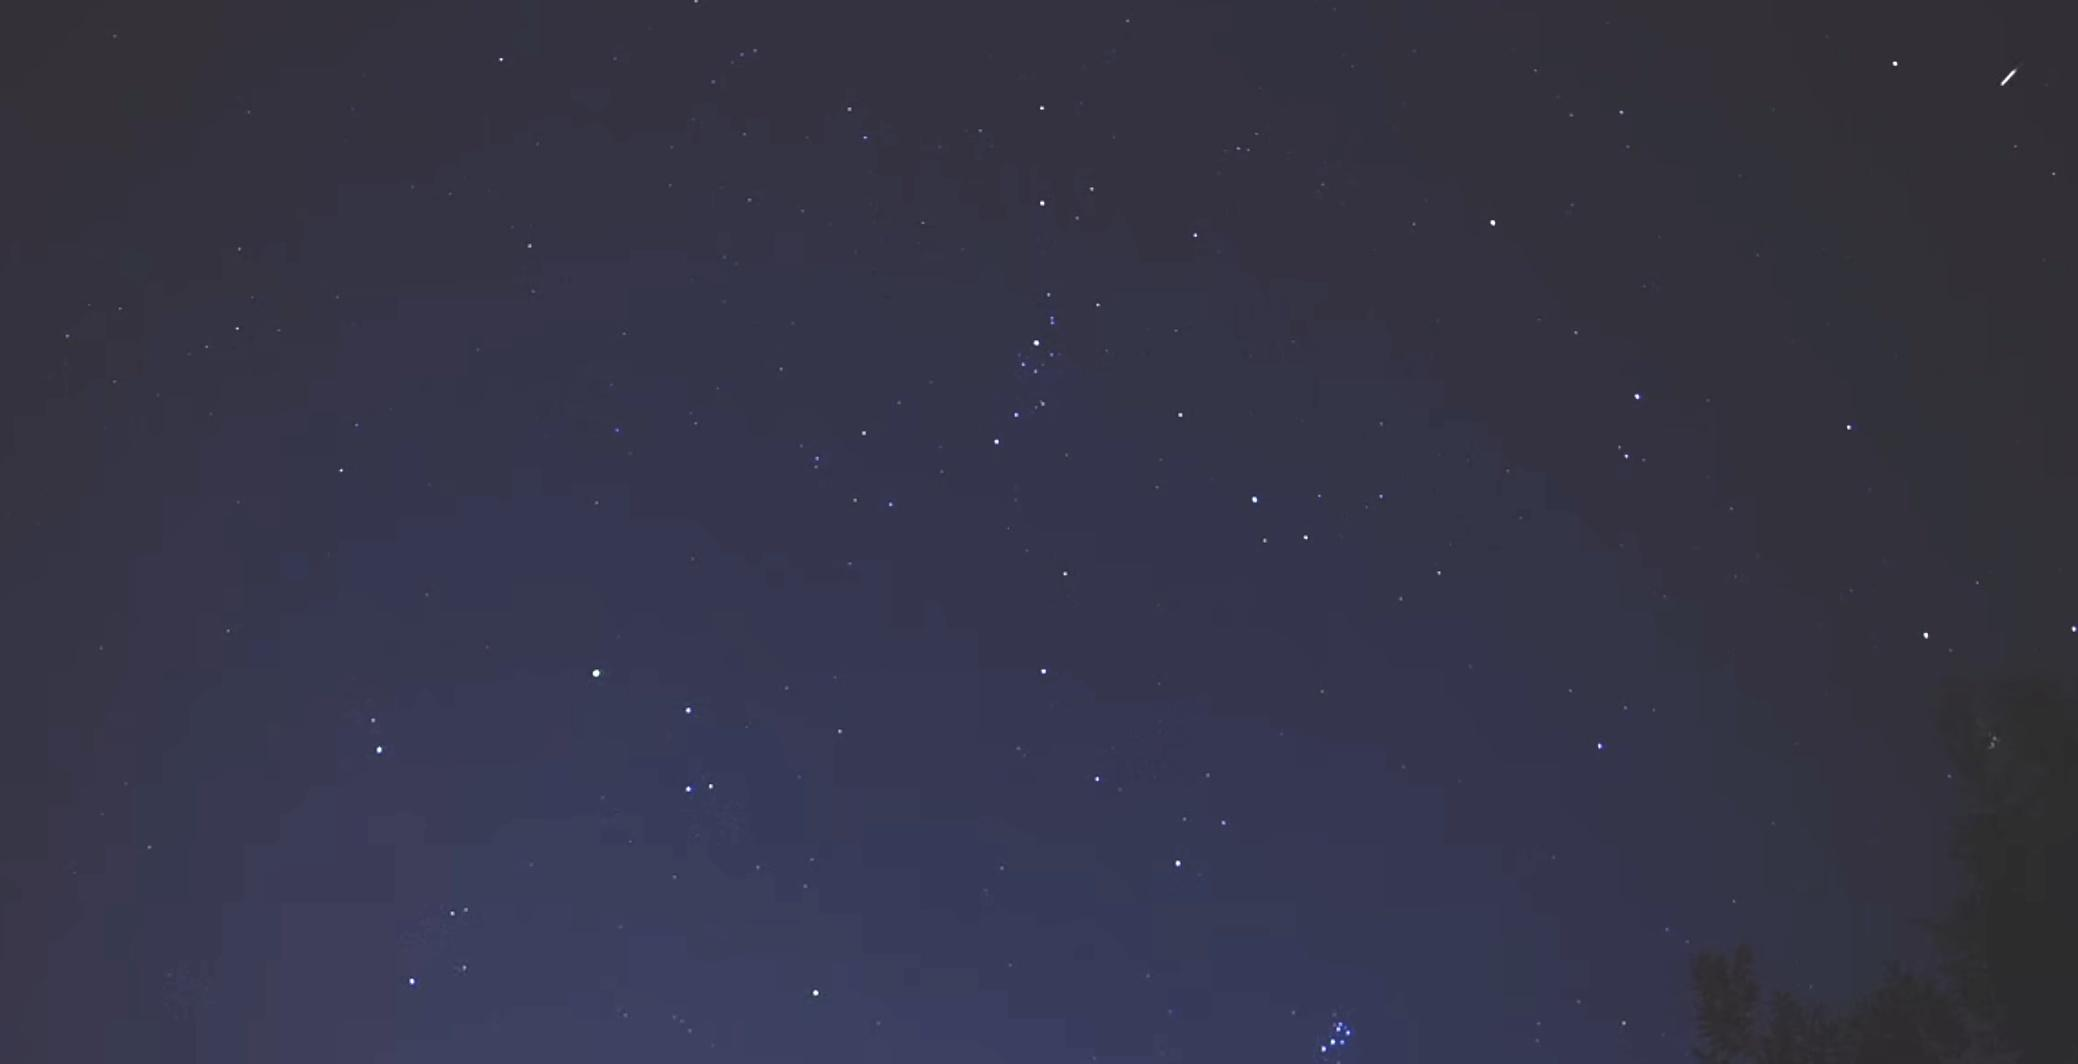meteorite: (1950, 56, 2064, 95)
